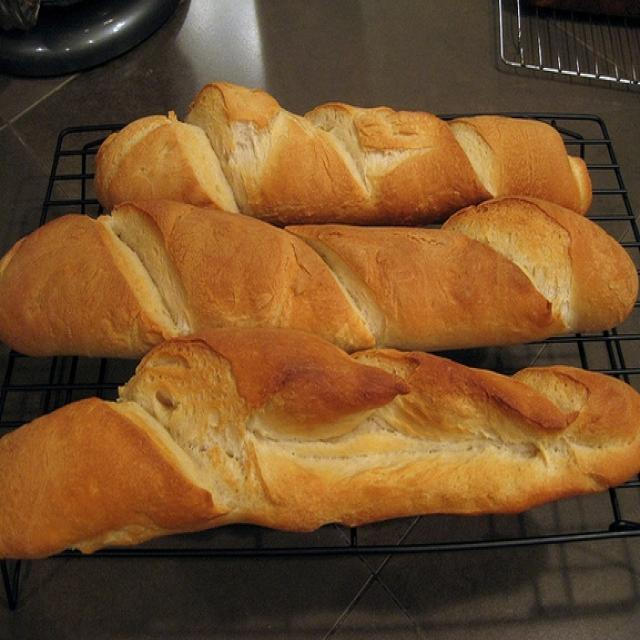Bread: (0, 86, 640, 564)
